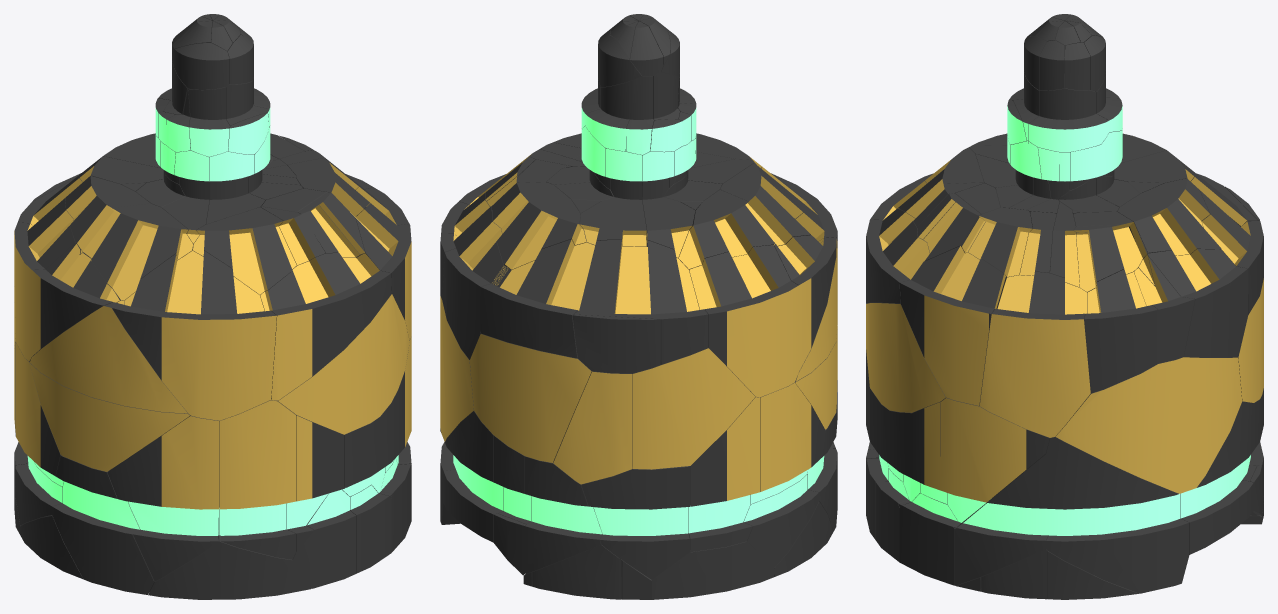
Rendered from fracturecell.fbx.
The picture shows the model from 3 angles, left to right: view 1: azimuth 30°, elevation 25°; view 2: azimuth 150°, elevation 25°; view 3: azimuth 270°, elevation 25°; orthographic projection.
Visible parts, largest first — view 1: Cylinder.001_cell.076, Cylinder.001_cell.055, Cylinder.001_cell.030, Cylinder.001_cell.067, Cylinder.001_cell.096, Cylinder.001_cell.057, Cylinder.001_cell.002, Cylinder.001_cell.037, Cylinder.001_cell.086, Cylinder.001_cell.033, Cylinder.001_cell.061, Cylinder.001_cell.031 (+34 smaller); view 2: Cylinder.001_cell.080, Cylinder.001_cell.049, Cylinder.001_cell.058, Cylinder.001_cell.024, Cylinder.001_cell.034, Cylinder.001_cell.083, Cylinder.001_cell.014, Cylinder.001_cell.095, Cylinder.001_cell.015, Cylinder.001_cell.085, Cylinder.001_cell.052, Cylinder.001_cell.072 (+38 smaller); view 3: Cylinder.001_cell.047, Cylinder.001_cell.050, Cylinder.001_cell.022, Cylinder.001_cell.088, Cylinder.001_cell.012, Cylinder.001_cell.064, Cylinder.001_cell.091, Cylinder.001_cell.020, Cylinder.001_cell.072, Cylinder.001_cell.096, Cylinder.001_cell.052, Cylinder.001_cell.030 (+40 smaller).
Part boxes in pixels (<box>): Cylinder.001_cell.076: <box>112,250,276,420</box>; Cylinder.001_cell.055: <box>107,415,219,581</box>; Cylinder.001_cell.030: <box>260,253,391,400</box>; Cylinder.001_cell.067: <box>218,400,295,559</box>; Cylinder.001_cell.096: <box>277,294,409,434</box>; Cylinder.001_cell.057: <box>29,300,187,413</box>; Cylinder.001_cell.002: <box>52,455,154,594</box>; Cylinder.001_cell.037: <box>29,362,190,471</box>; Cylinder.001_cell.086: <box>148,530,311,599</box>; Cylinder.001_cell.033: <box>91,203,193,300</box>; Cylinder.001_cell.061: <box>193,207,296,294</box>; Cylinder.001_cell.031: <box>32,243,121,356</box>; Cylinder.001_cell.080: <box>689,245,798,397</box>; Cylinder.001_cell.049: <box>469,333,591,462</box>; Cylinder.001_cell.058: <box>632,348,755,469</box>; Cylinder.001_cell.024: <box>574,239,708,364</box>; Cylinder.001_cell.034: <box>480,239,594,358</box>; Cylinder.001_cell.083: <box>581,466,689,579</box>; Cylinder.001_cell.014: <box>688,397,760,552</box>; Cylinder.001_cell.095: <box>553,371,632,484</box>; Cylinder.001_cell.015: <box>525,456,602,573</box>; Cylinder.001_cell.085: <box>750,382,825,503</box>; Cylinder.001_cell.052: <box>492,182,586,269</box>; Cylinder.001_cell.072: <box>443,411,503,542</box>; Cylinder.001_cell.047: <box>1055,357,1242,493</box>; Cylinder.001_cell.050: <box>1046,437,1189,593</box>; Cylinder.001_cell.022: <box>979,271,1090,437</box>; Cylinder.001_cell.088: <box>899,246,1006,405</box>; Cylinder.001_cell.012: <box>940,397,1050,528</box>; Cylinder.001_cell.064: <box>1137,249,1248,357</box>; Cylinder.001_cell.091: <box>955,454,1048,585</box>; Cylinder.001_cell.020: <box>1084,269,1158,393</box>; Cylinder.001_cell.072: <box>1180,401,1253,554</box>; Cylinder.001_cell.096: <box>866,303,945,412</box>; Cylinder.001_cell.052: <box>1117,178,1221,259</box>; Cylinder.001_cell.030: <box>866,208,929,303</box>.
Size of the model in its own units: 214 by 294 by 214.
